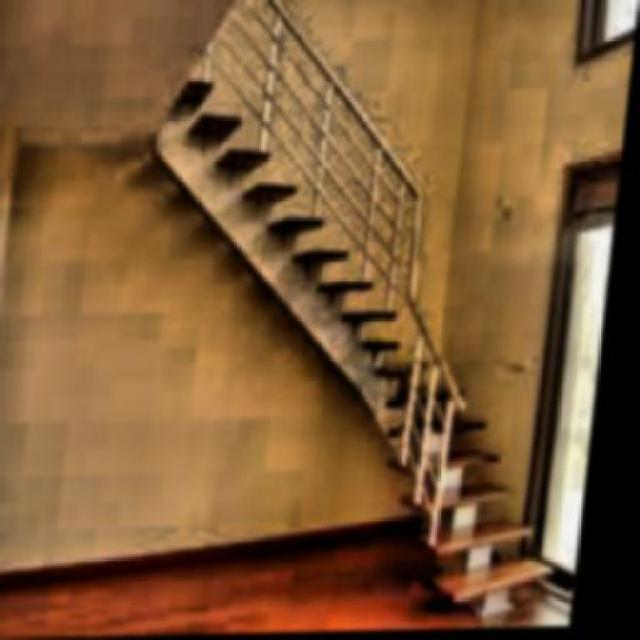stair: (364, 372, 580, 612)
